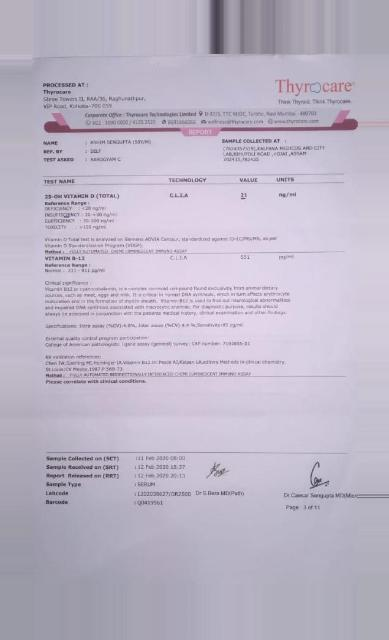Clinical_Conditions: (43, 280, 298, 319)
Name: (90, 138, 152, 145)
Ref_By: (91, 147, 103, 155)
Technology: (169, 255, 191, 264), (169, 192, 191, 200)
Test_Asked: (90, 157, 123, 163)
Test_Name: (44, 193, 122, 232), (44, 254, 111, 277)
Unit: (277, 191, 301, 200), (278, 254, 296, 262)
Value: (239, 190, 252, 201), (238, 254, 255, 261)
